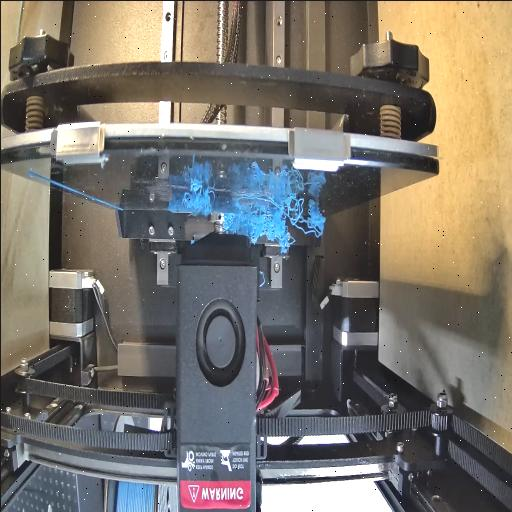spaghetti: (220, 185, 302, 245), (178, 177, 216, 217), (303, 190, 325, 236)
